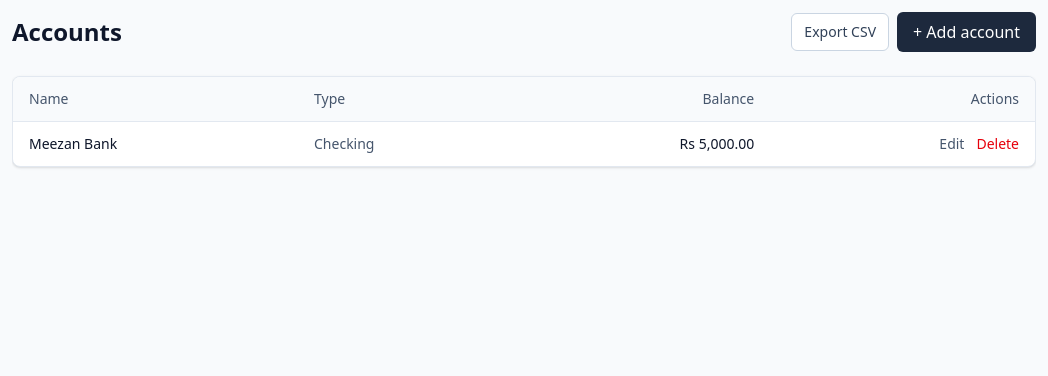
it: AccountsPage › deletes an account after confirm
The image size is (1048, 376).
Expected: the text "Meezan Bank" is shown, [13, 122, 298, 166]
Click the button "Delete".
click(998, 144)  # box [976, 134, 1019, 154]
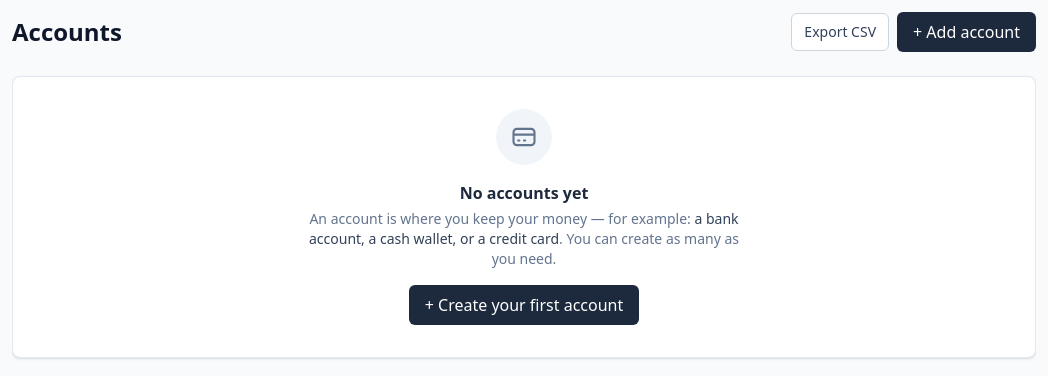
Expected: the heading "No accounts yet" is shown, [460, 182, 588, 204]
